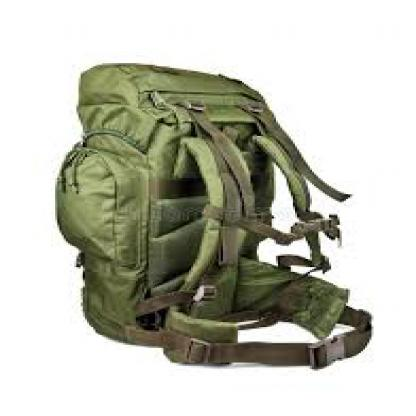morral: (49, 50, 388, 385)
